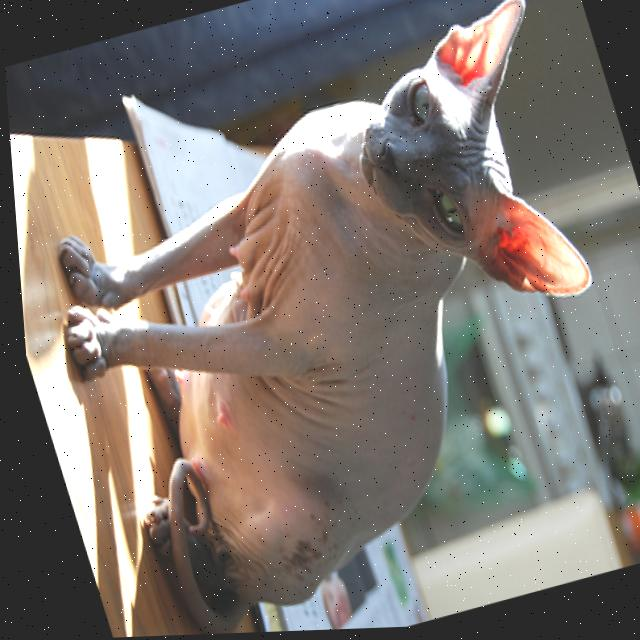Sphynx: (1, 0, 640, 640)
